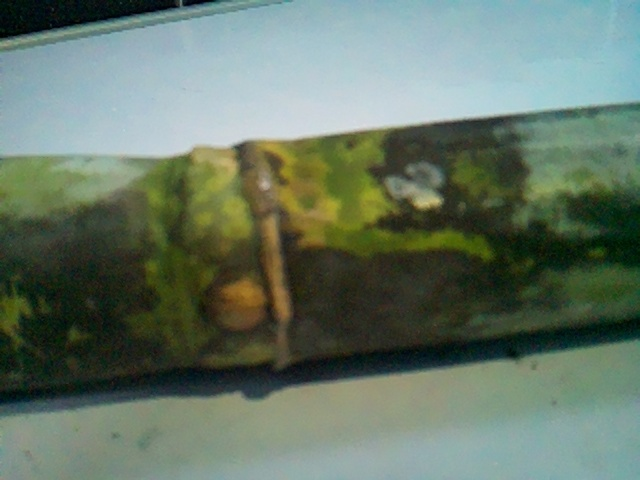Good Sugarcane: (0, 95, 633, 402)
Node: (160, 136, 324, 369)
